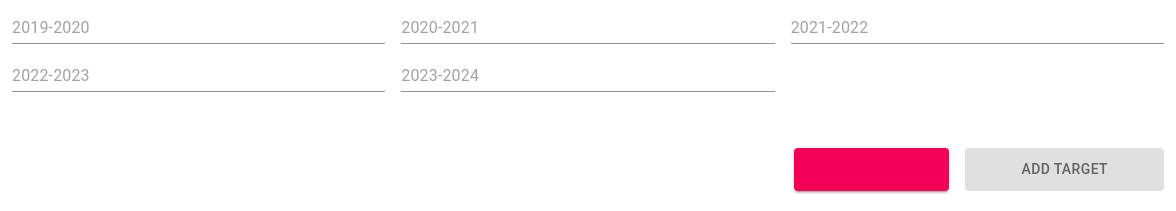
Target Dialog Screens › Target Screen › disables `Add Target` button until changes have been made
Expected: the button "Add Target" is disabled, [966,148,1164,191]
Type "123" into the field with placeholder "2020-2021" at (588,28), box [401,12,775,44]
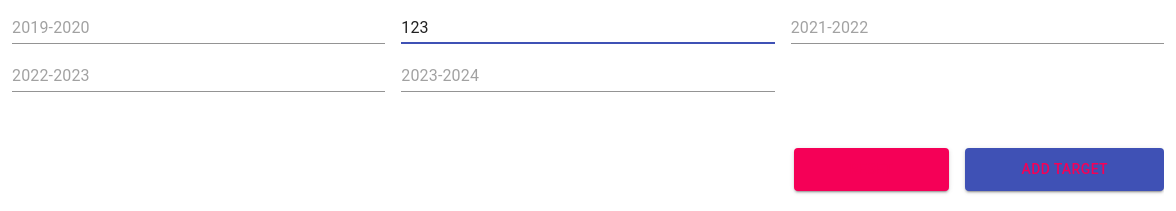
Result: the button "Add Target" is enabled at [966,148,1164,191]
